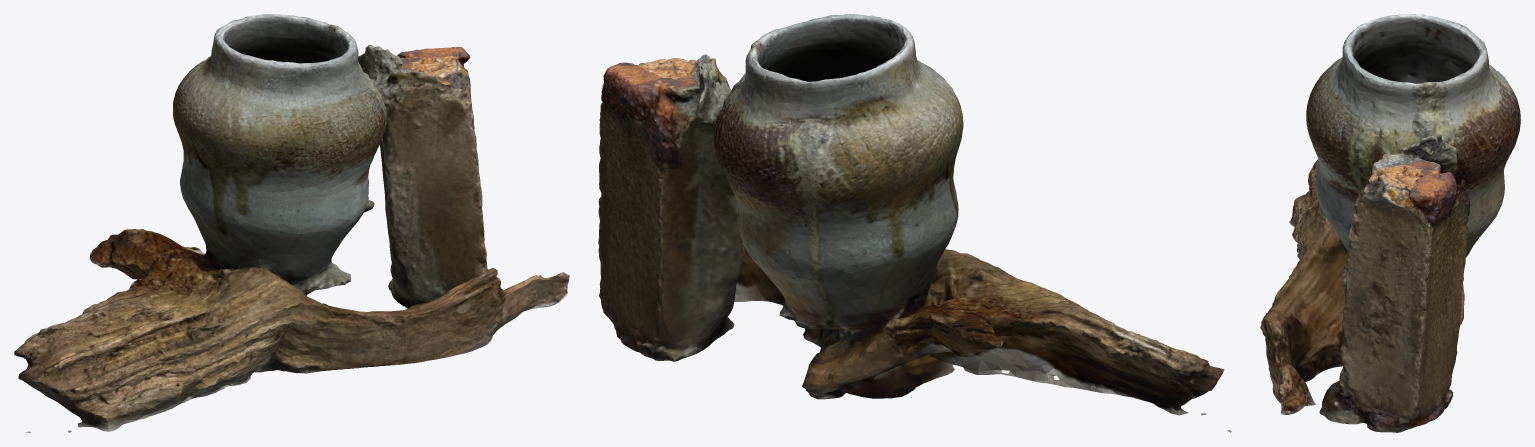
Rendered from metascan_20221226-2032_little-beluga.glb.
The picture shows the model from 3 angles, left to right: view 1: azimuth 30°, elevation 25°; view 2: azimuth 150°, elevation 25°; view 3: azimuth 270°, elevation 25°; orthographic projection. The views are drawn at different scales.
Bounding box in the file's own units: 0.417 × 0.2267 × 0.1813.
1 material, 1 textured.
